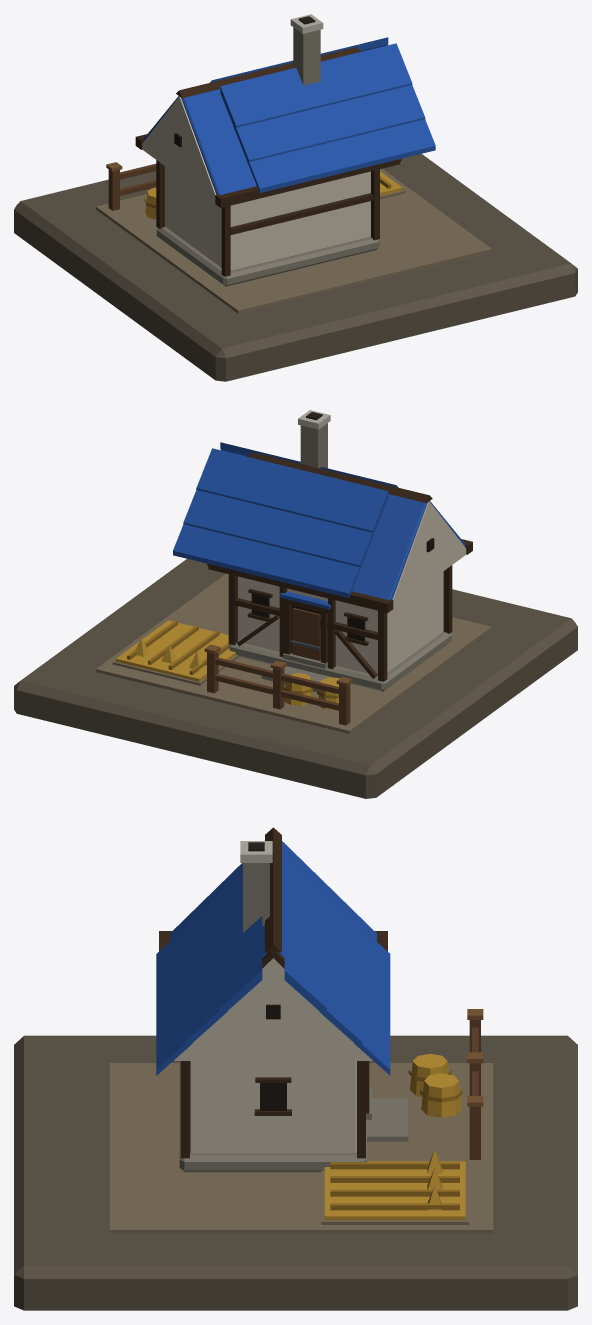
3 views of the same model, one above another, from view 1: azimuth 30°, elevation 25°; view 2: azimuth 150°, elevation 25°; view 3: azimuth 270°, elevation 25° (orthographic). The views are drawn at different scales.
Parts seen in each view (by area): view 1: 农场_1星; view 2: 农场_1星; view 3: 农场_1星.
Part boxes in pixels (x1=…): 农场_1星: x1=14, y1=14, x2=577, y2=381; 农场_1星: x1=14, y1=410, x2=577, y2=798; 农场_1星: x1=14, y1=827, x2=577, y2=1310.
Size of the model in its own units: 1 by 0.6715 by 1.
